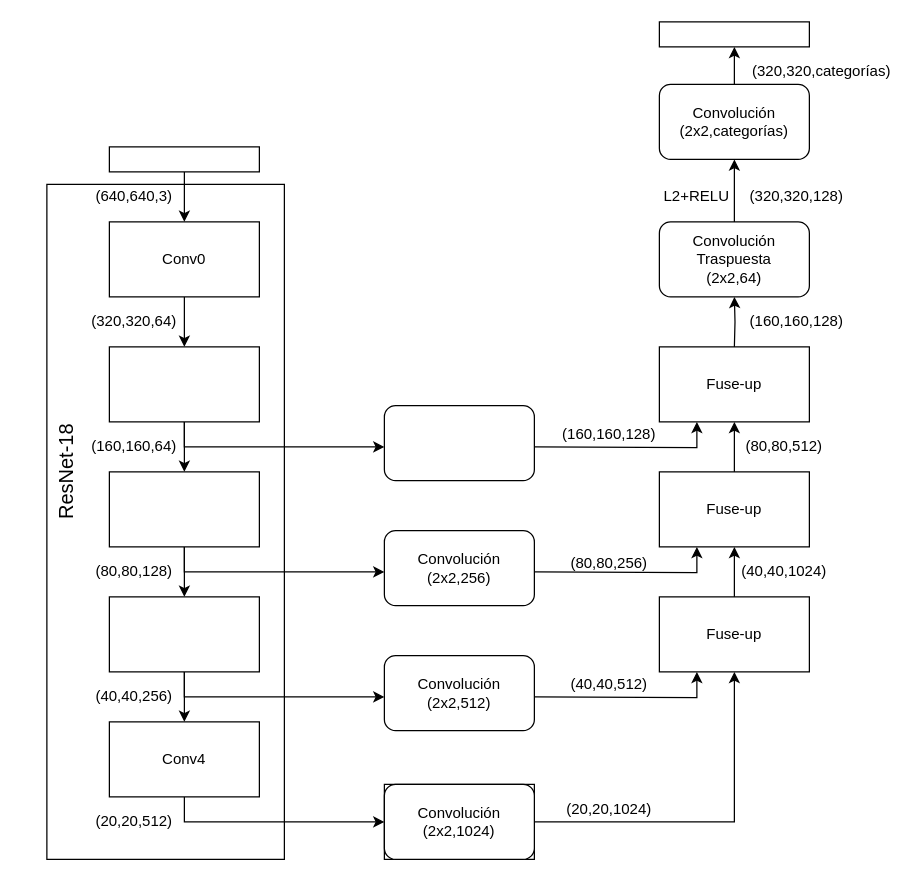
This 913x881 diagram has some shape labels left out. Each missing label, with the centre of its shape:
Conv1: the point at 183,384
Conv2: the point at 183,509
Conv3: the point at 183,634
Convolución (2x2,128): the point at 458,442
Input: the point at 183,159
Output: the point at 733,34
